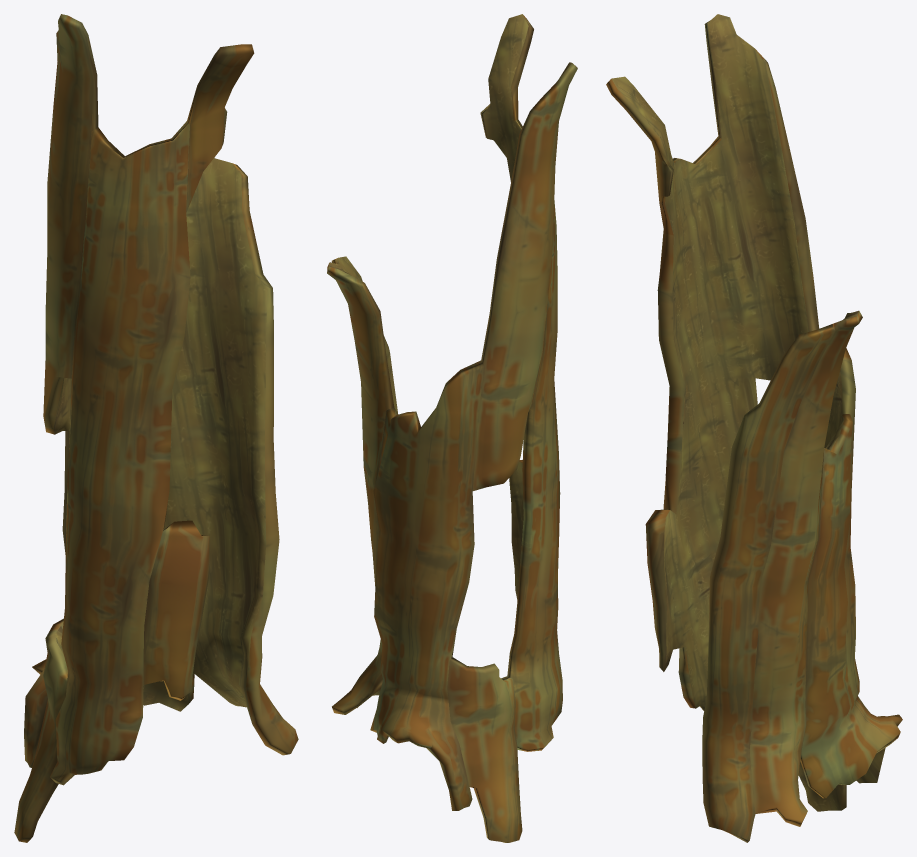
File: env_forest_gianttree_hollowtrunk_lod1.fbx
3 renders of one model, left to right at view 1: azimuth 30°, elevation 25°; view 2: azimuth 150°, elevation 25°; view 3: azimuth 270°, elevation 25°, orthographic. The views are drawn at different scales.
Visible parts, largest first — view 1: hollowtrunk_lod1; view 2: hollowtrunk_lod1; view 3: hollowtrunk_lod1.
Boxes of the visible parts, <box> form: hollowtrunk_lod1: <box>14,14,298,842</box>; hollowtrunk_lod1: <box>327,14,577,842</box>; hollowtrunk_lod1: <box>606,14,902,842</box>.
Size of the model in its own units: 36.25 by 122 by 41.56.
